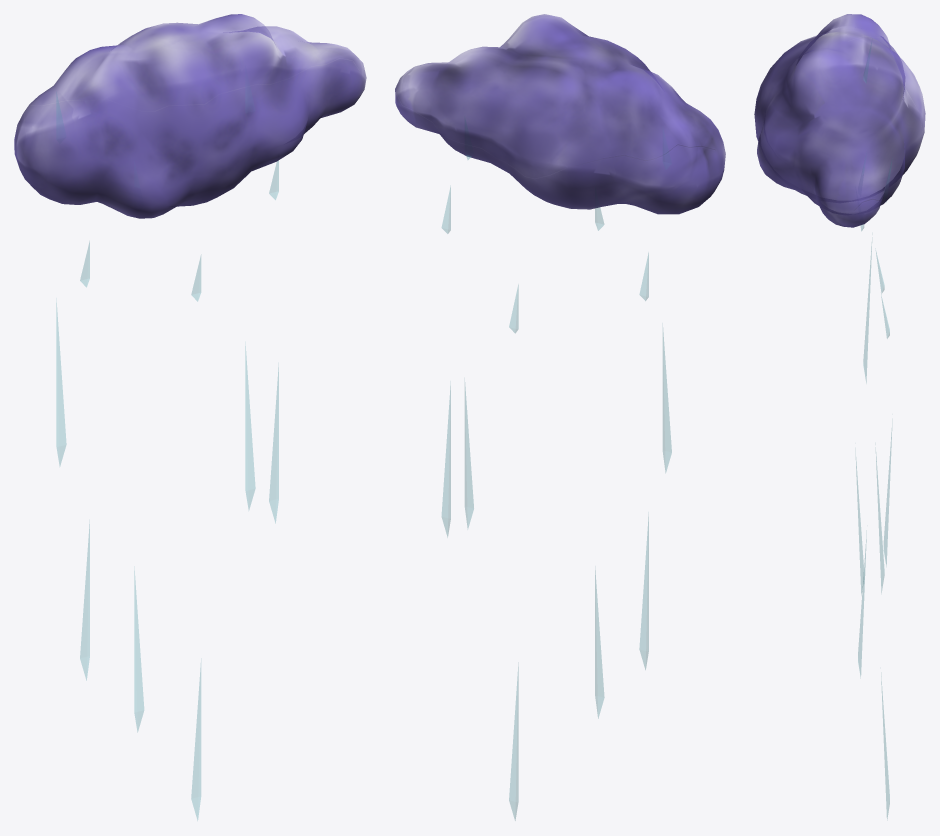
The model's file is Rain.glb.
3 renders of one model, left to right at view 1: azimuth 30°, elevation 25°; view 2: azimuth 150°, elevation 25°; view 3: azimuth 270°, elevation 25°, orthographic. The views are drawn at different scales.
Visible parts, largest first — view 1: RainCloud, RainDrops; view 2: RainCloud, RainDrops; view 3: RainCloud, RainDrops.
Part boxes in pixels (<box>): RainCloud: <box>14,14,366,218</box>; RainDrops: <box>56,97,278,820</box>; RainCloud: <box>395,14,725,214</box>; RainDrops: <box>441,120,671,820</box>; RainCloud: <box>754,14,925,227</box>; RainDrops: <box>856,43,891,818</box>.
Bounding box in the file's own units: 0.2088 × 0.4871 × 0.0982.
Materials: 2 (1 with a texture image).
